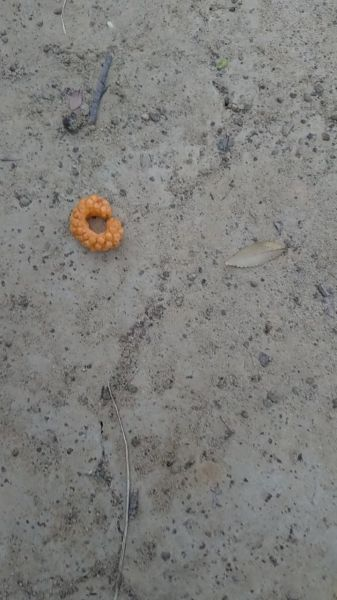eggs: (72, 190, 131, 255)
